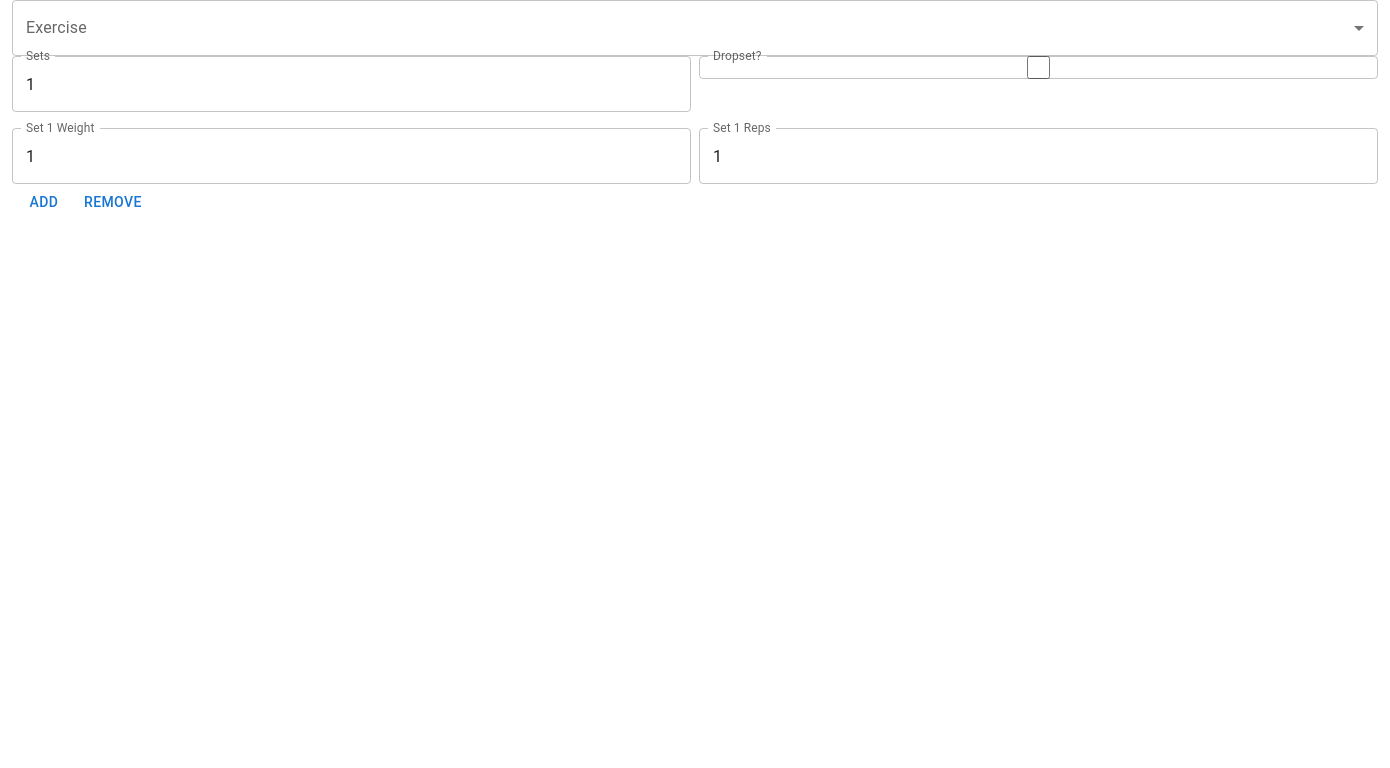
Test case: adding a exercise › adding more sets creates more weight inputs
Replace the text in the number field labelled "Sets" with "6" at point(352, 84), box 12,56 -> 691,112
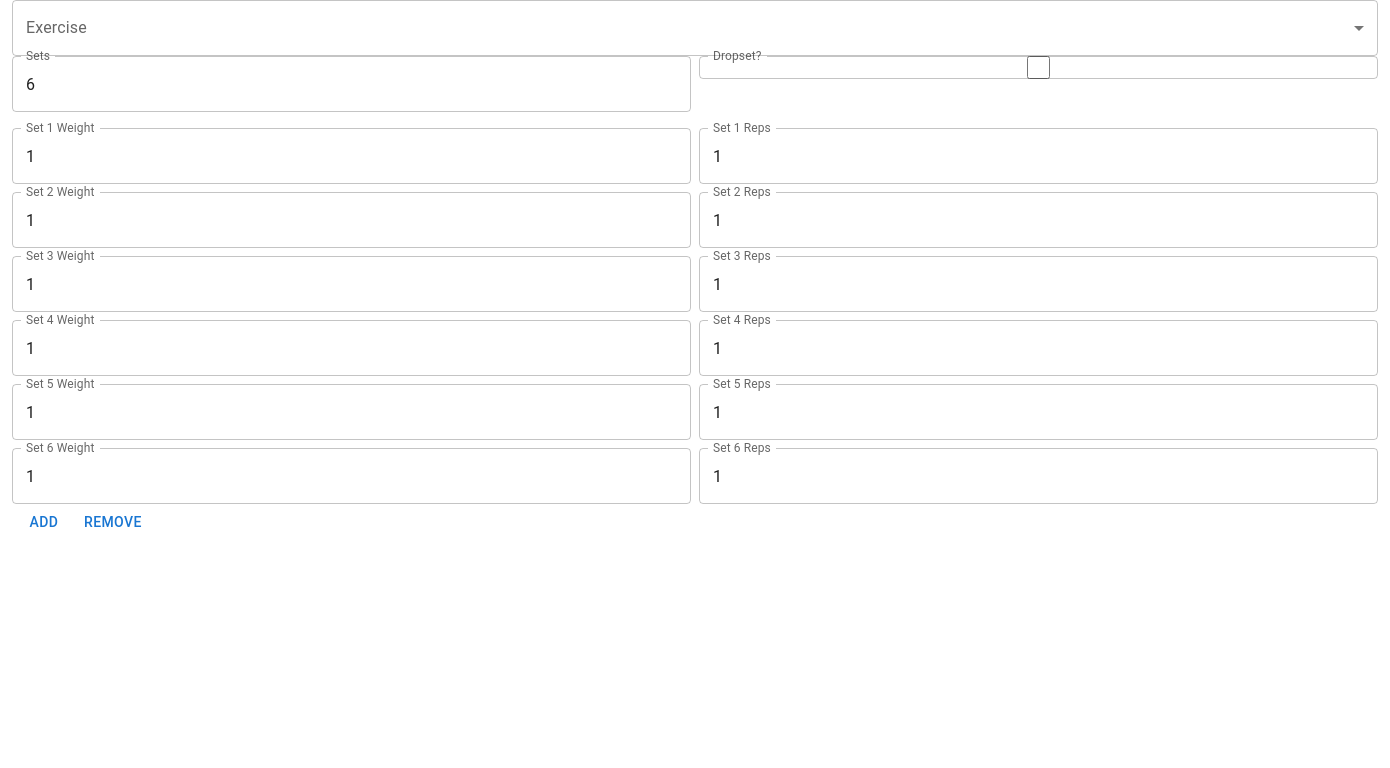
Check: the number field labelled "Set 1 Weight" is shown, box 12,128 -> 691,184
Check: the number field labelled "Set 6 Weight" is shown, box 12,448 -> 691,504
